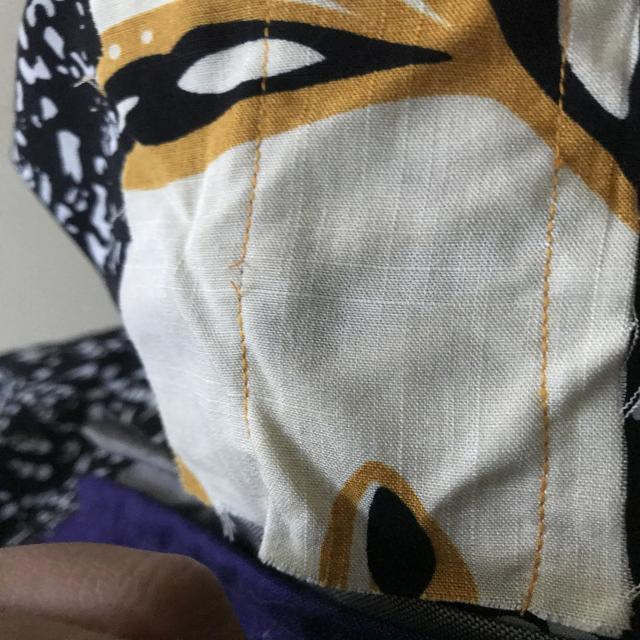broken: (215, 252, 266, 306)
